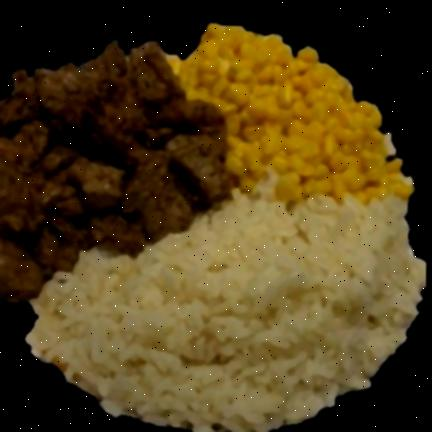corn: (169, 23, 418, 197)
meat: (0, 41, 236, 298)
rice: (27, 195, 426, 432)
